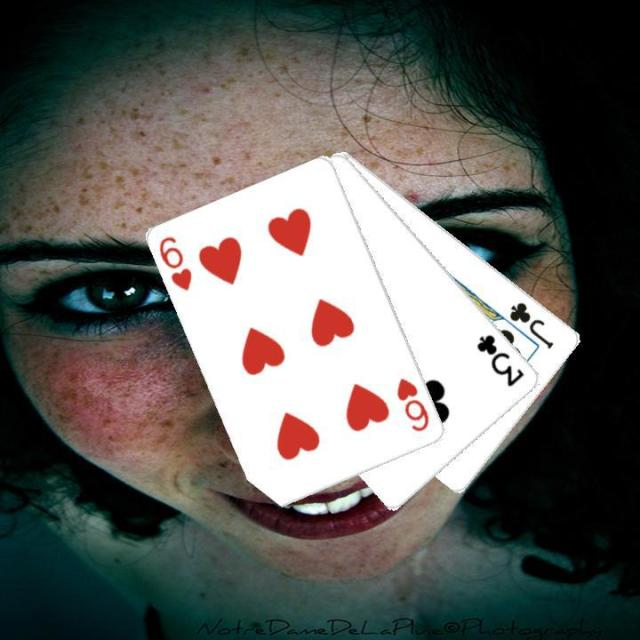3C: (473, 330, 527, 389)
6H: (393, 374, 432, 434), (156, 232, 194, 292)
JC: (506, 298, 556, 351)
